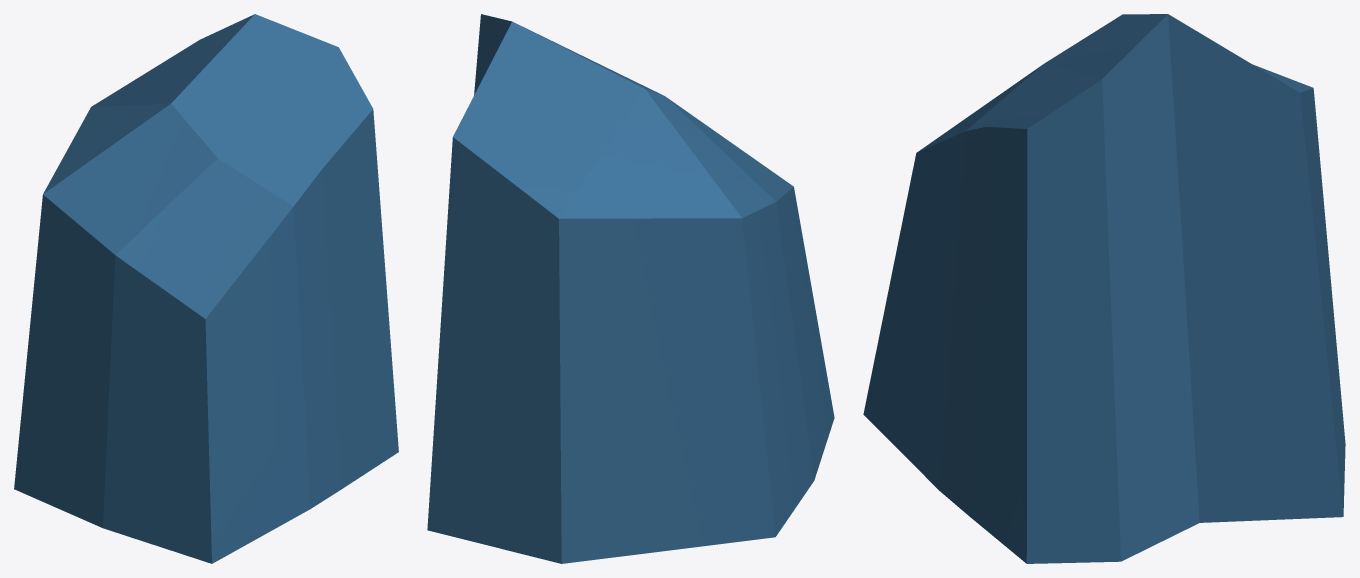
Rendered from SM_IceRock3.fbx.
3 views of the same model, side by side, from view 1: azimuth 30°, elevation 25°; view 2: azimuth 150°, elevation 25°; view 3: azimuth 270°, elevation 25° (orthographic). The views are drawn at different scales.
Visible parts, largest first — view 1: SM_IceRock3; view 2: SM_IceRock3; view 3: SM_IceRock3.
Boxes of the visible parts, x1,y1,x2,y2 form: SM_IceRock3: (14, 14, 398, 563); SM_IceRock3: (427, 14, 834, 563); SM_IceRock3: (863, 14, 1345, 563).
Size of the model in its own units: 38.15 by 46.4 by 40.55.
